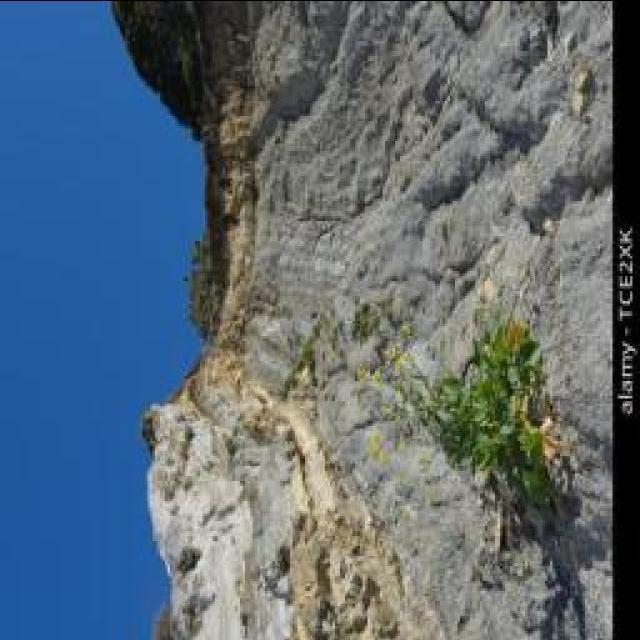Crack: (115, 1, 614, 638)
